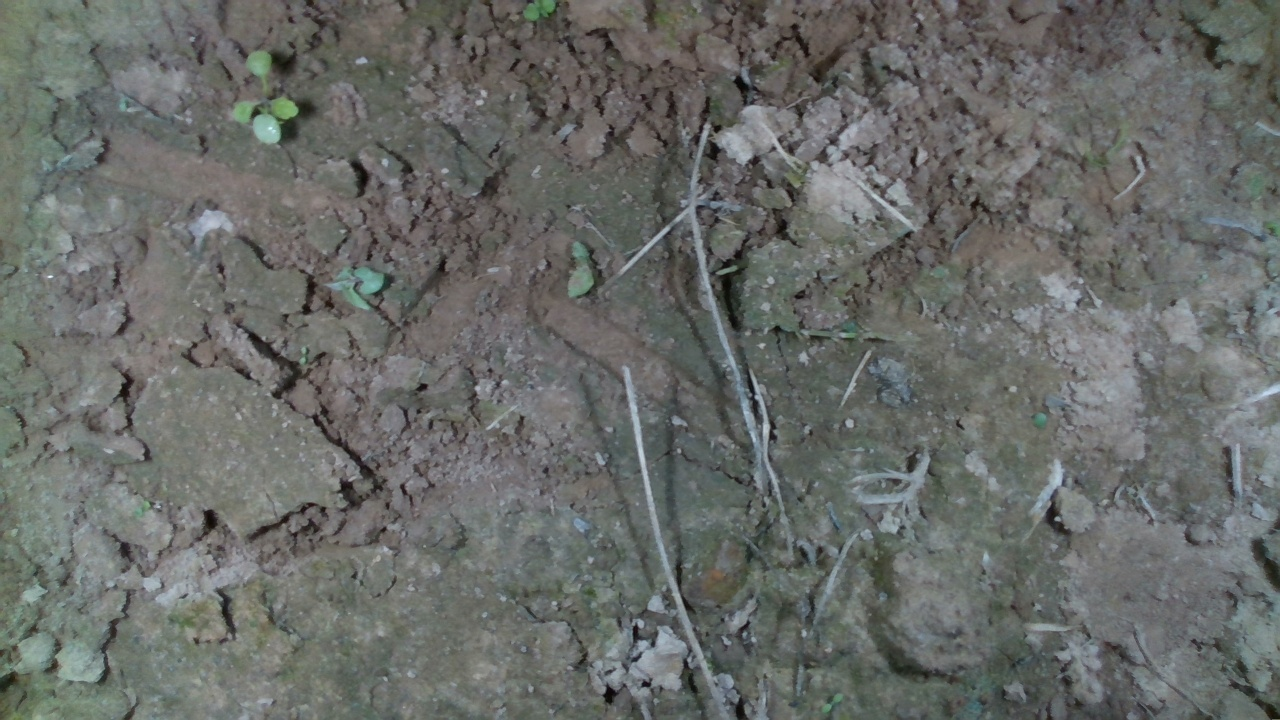weed: (228, 48, 302, 145)
